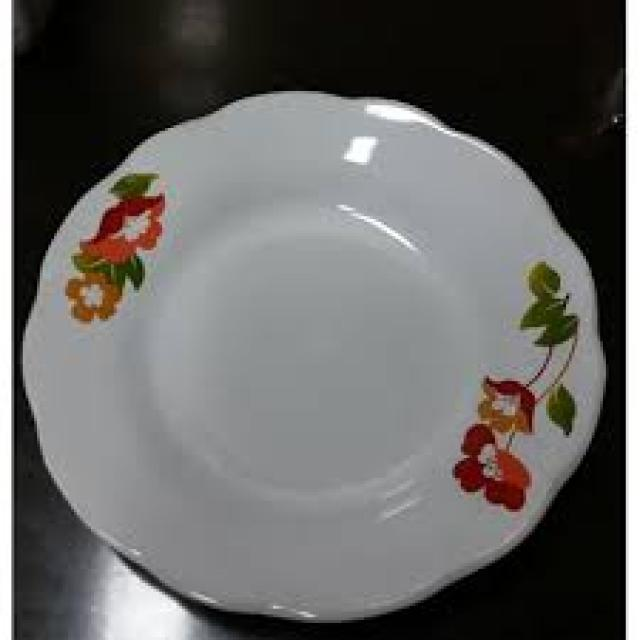Plate: (20, 84, 612, 626)
